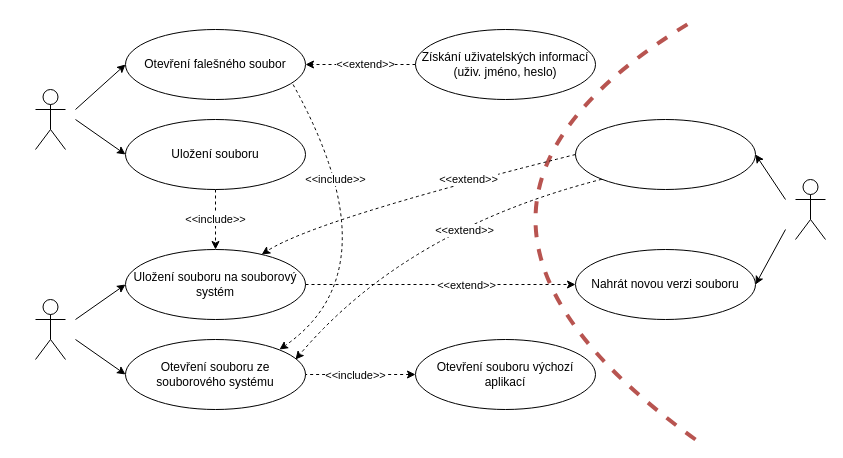
The diagram is 843 pixels wide and 458 high, and some of its shapes have lost their labels. The shapes that lost their labels are listed below. From the top down, each one's box as (x1, y1, x2, y2) in pixels, then its label:
(34, 88, 66, 150): Uživatel
(574, 118, 756, 190): Získat aktuální verzi souboru
(794, 178, 826, 240): VDU
(34, 298, 66, 360): FUSE Agent
